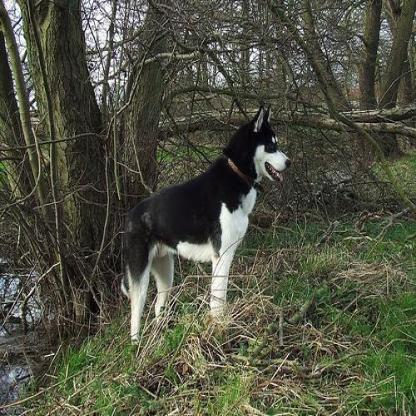Siberian_husky: (120, 103, 291, 347)
